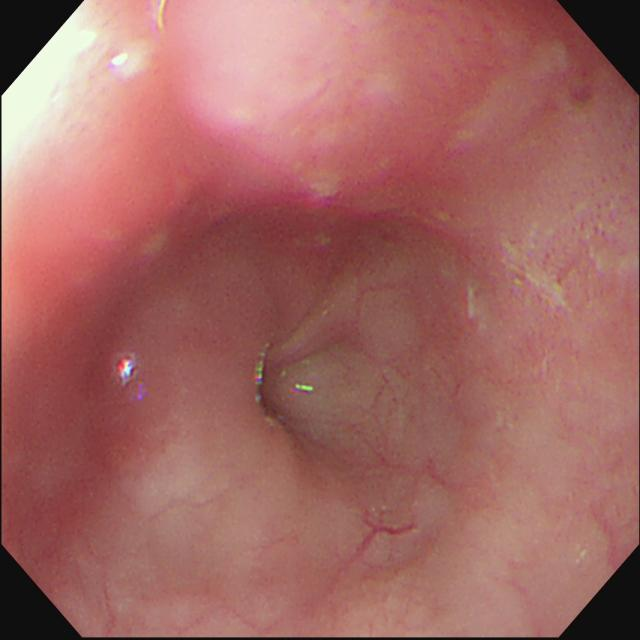A: (526, 163, 640, 355)
U: (250, 351, 270, 406), (116, 353, 139, 387), (291, 384, 315, 394)
